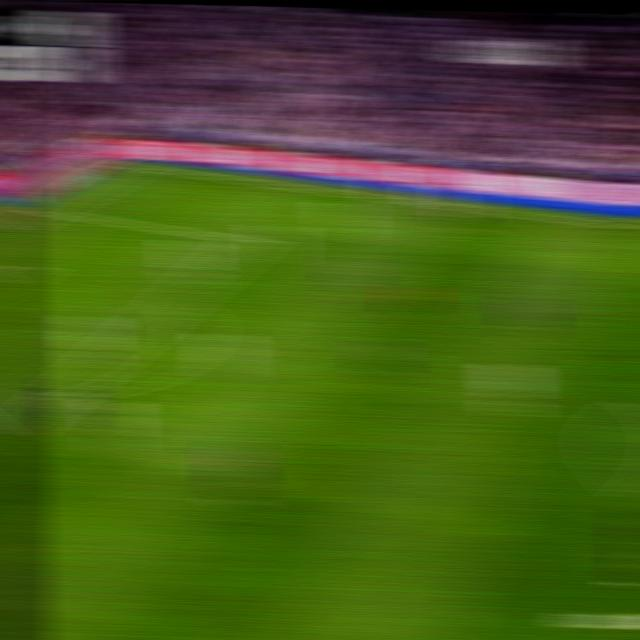bigarea_top_inner: (234, 230, 267, 250)
bigarea_top_outter: (31, 204, 61, 215)
corner: (115, 162, 145, 169)
smallarea_top_inner: (14, 261, 45, 275)
top_arc_area_intersection: (161, 292, 193, 309)
